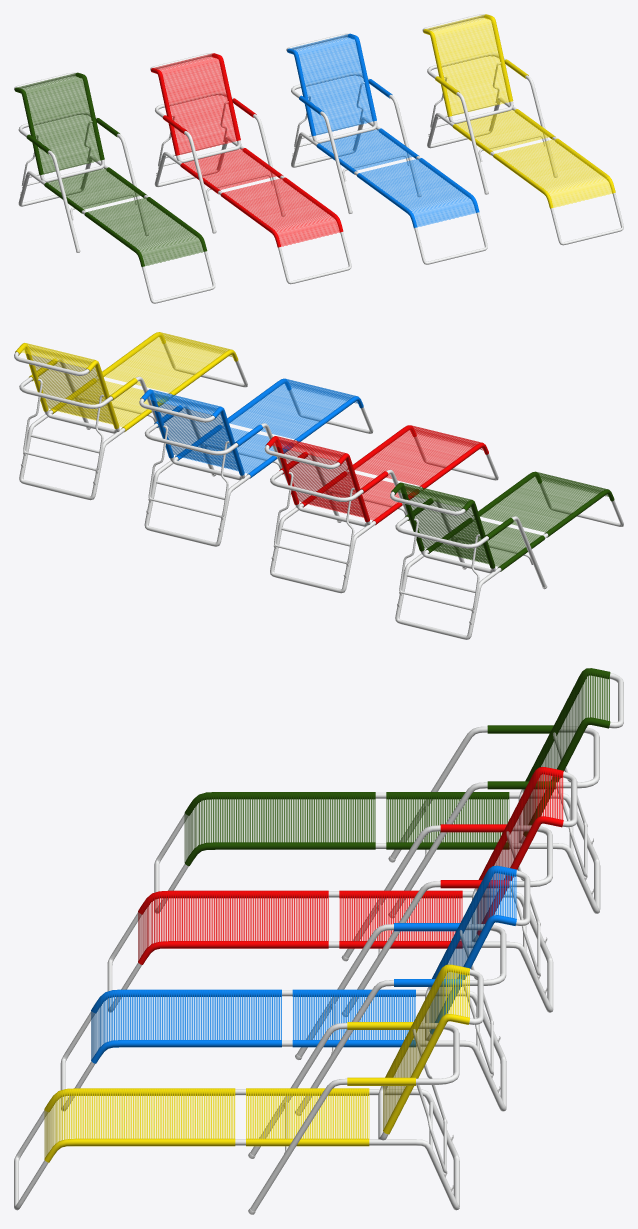
Rendered from pool_chairs.glb.
3 renders of one model, top to bottom at view 1: azimuth 30°, elevation 25°; view 2: azimuth 150°, elevation 25°; view 3: azimuth 270°, elevation 25°, orthographic. The views are drawn at different scales.
Visible parts, largest first — view 1: poolChair_Green, poolChair_Blue, poolChair_Yellow, poolChair_Red, poolChairRest_Green, poolChairRest.002, poolChairRest.003, poolChairRest.001; view 2: poolChair_Green, poolChair_Yellow, poolChair_Blue, poolChair_Red, poolChairRest.001, poolChairRest.002, poolChairRest_Green, poolChairRest.003, poolChairSupport, poolChairSupport.002, poolChairSupport.003, poolChairSupport.001; view 3: poolChair_Yellow, poolChair_Red, poolChair_Blue, poolChair_Green, poolChairRest.003, poolChairRest.001, poolChairRest.002, poolChairRest_Green, poolChairSupport.003.
Boxes of the visible parts, box(x1,y1,x2,y2) form: poolChair_Green: box(18, 111, 215, 303); poolChair_Blue: box(291, 72, 487, 264); poolChair_Yellow: box(427, 52, 623, 245); poolChair_Red: box(154, 91, 351, 284); poolChairRest_Green: box(14, 72, 104, 182); poolChairRest.002: box(286, 33, 377, 143); poolChairRest.003: box(422, 14, 513, 124); poolChairRest.001: box(150, 53, 241, 162); poolChair_Green: box(395, 471, 623, 639); poolChair_Yellow: box(19, 332, 247, 500); poolChair_Blue: box(144, 378, 373, 546); poolChair_Red: box(270, 425, 498, 593); poolChairRest.001: box(264, 436, 370, 526); poolChairRest.002: box(139, 389, 244, 480); poolChairRest_Green: box(390, 482, 495, 573); poolChairRest.003: box(14, 343, 119, 433); poolChairSupport: box(399, 518, 480, 610); poolChairSupport.002: box(148, 425, 229, 517); poolChairSupport.003: box(23, 378, 104, 470); poolChairSupport.001: box(274, 471, 354, 563); poolChair_Yellow: box(14, 1022, 459, 1214); poolChair_Red: box(107, 824, 553, 1017); poolChair_Blue: box(60, 923, 506, 1115); poolChair_Green: box(154, 725, 600, 918); poolChairRest.003: box(378, 964, 483, 1140); poolChairRest.001: box(472, 767, 577, 942); poolChairRest.002: box(425, 865, 530, 1040); poolChairRest_Green: box(518, 668, 623, 843); poolChairSupport.003: box(412, 1029, 446, 1173).
Size of the model in its own units: 3.6 by 0.9303 by 2.61.
4 materials, 4 textured.
